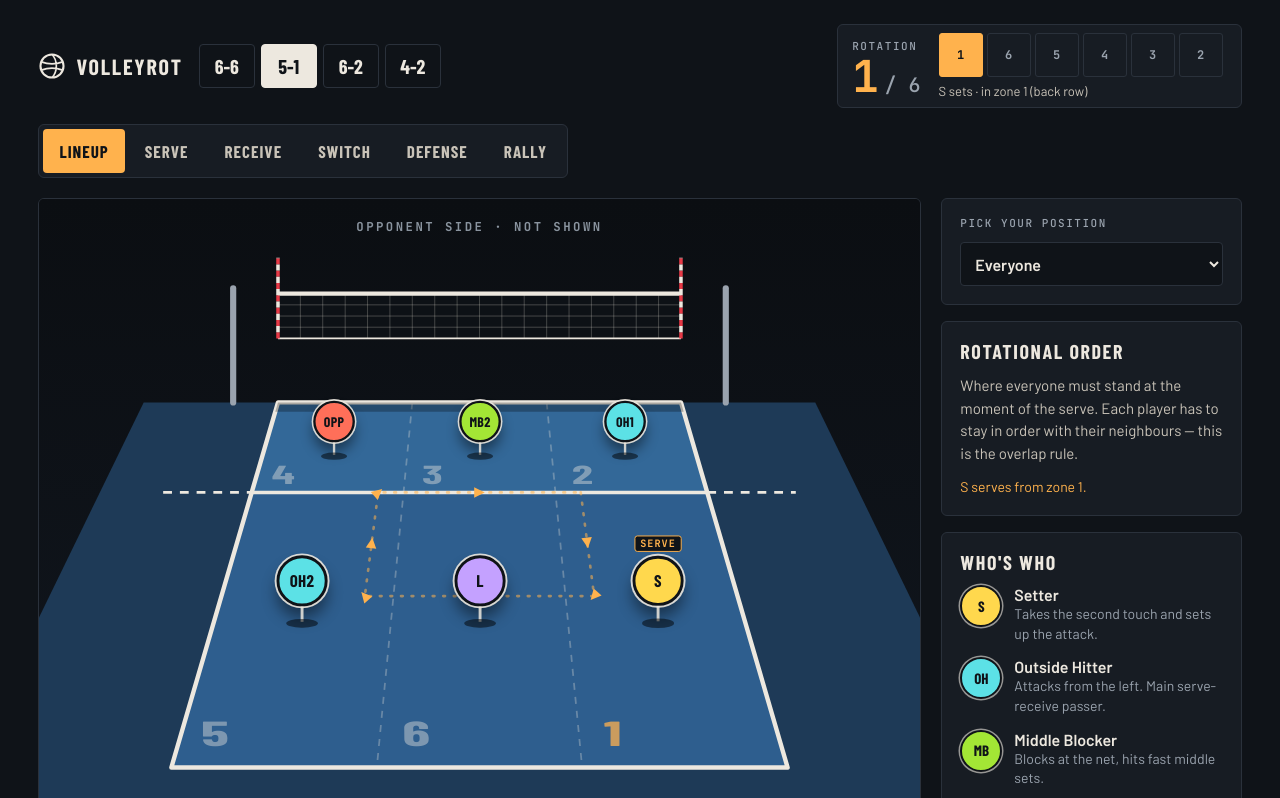
Test: attack chooser only appears in defense
The image size is (1280, 798).
Expected: the element "Attack from" is not shown
Click the button "Defense". click: x=437, y=151
box: [391,129,484,173]
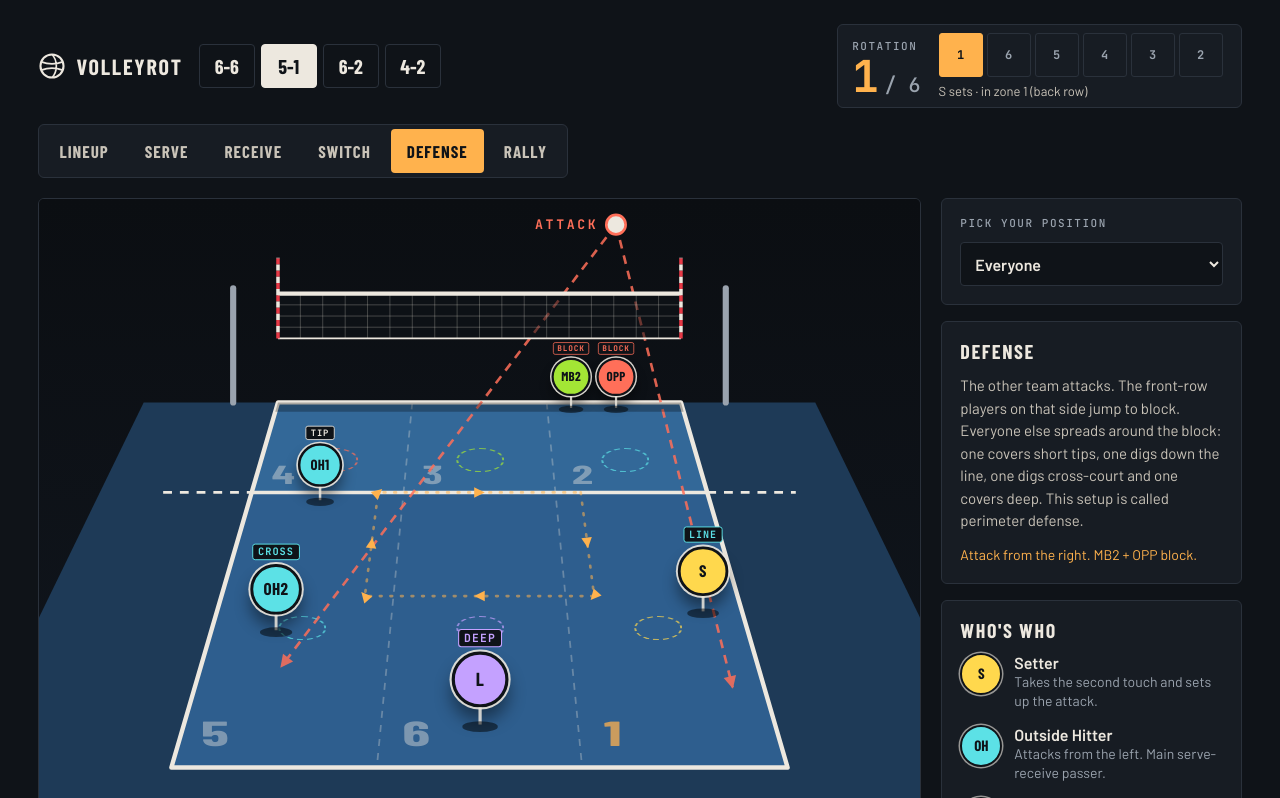
Expected: the text "Attack from the right. MB2 + OPP block." is shown, [960,544,1223,565]
